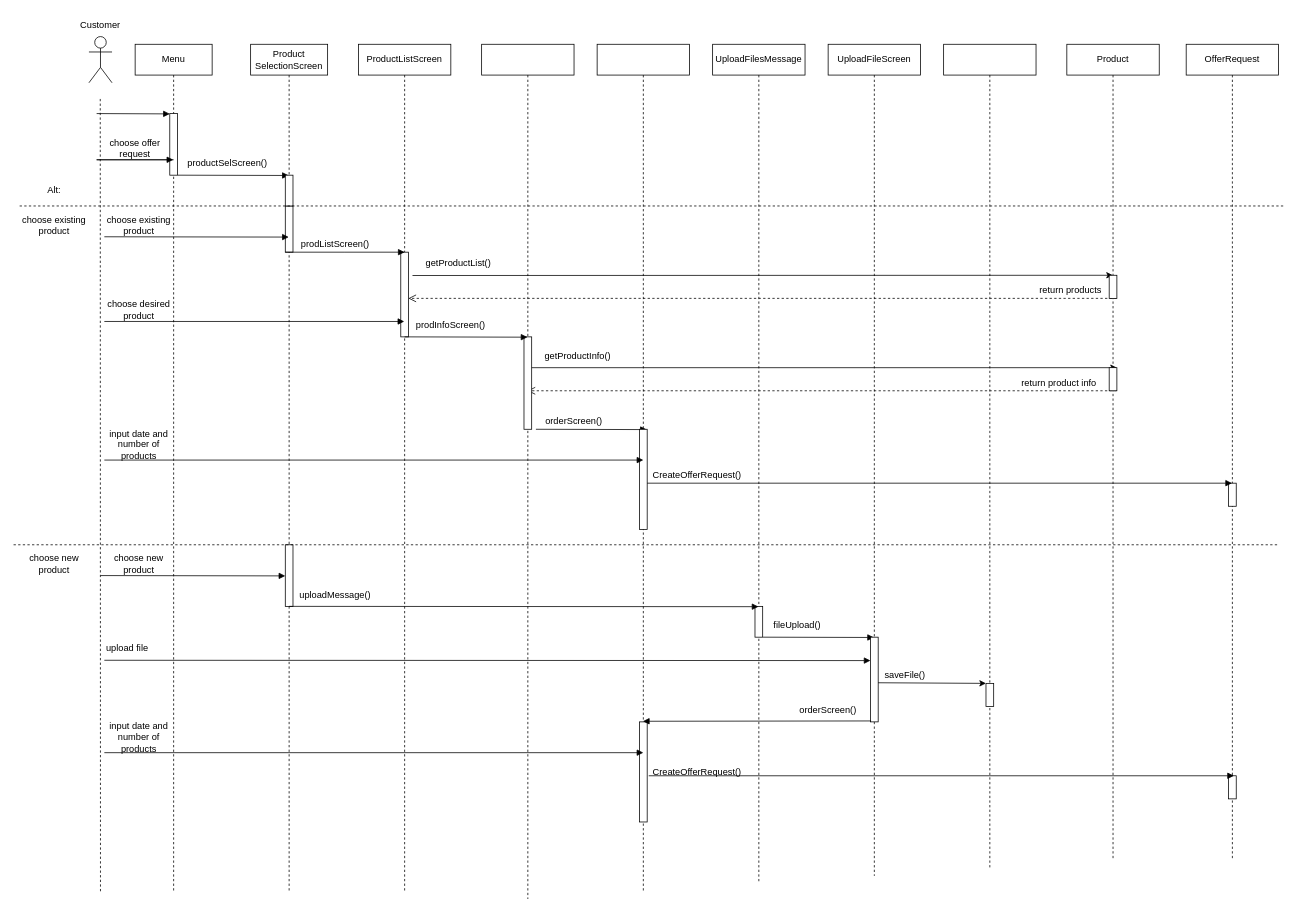
Some shapes in this 1299 by 912 pixel diagram are drawn without their labels. The box of each missing label's shape, as (x1, y1, x2, y2) in pixels:
OrderInputScreen: (596, 44, 690, 891)
ProductInformation Screen: (481, 44, 574, 899)
TechnicalDocument: (943, 44, 1036, 868)
